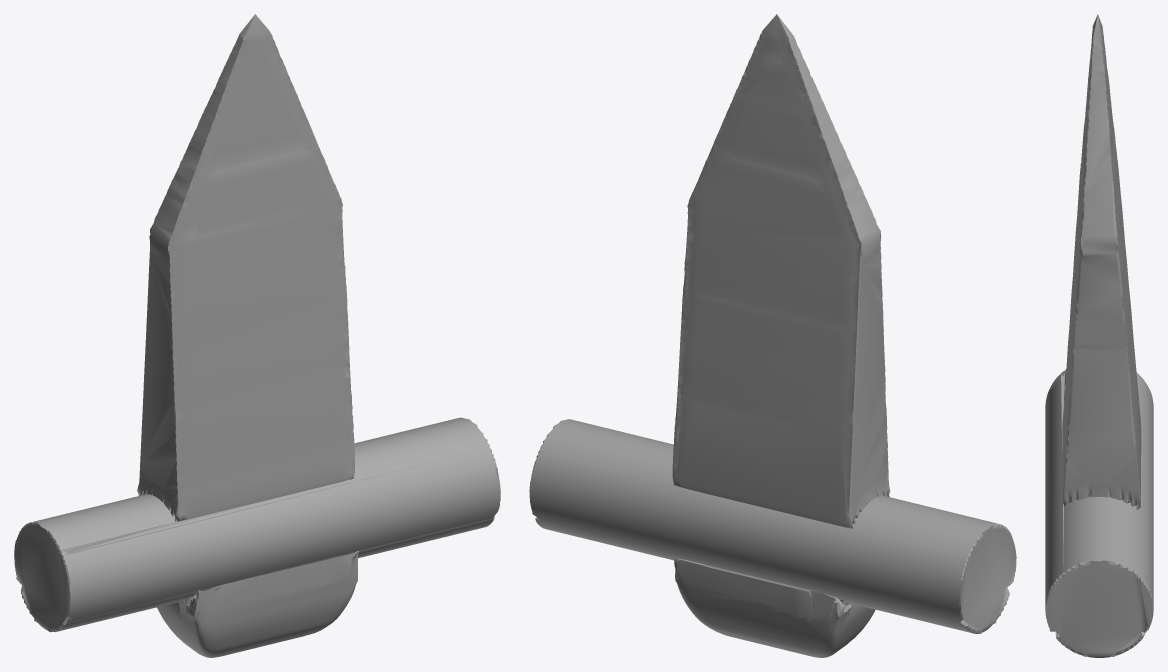
3 views of the same model, side by side, from view 1: azimuth 30°, elevation 25°; view 2: azimuth 150°, elevation 25°; view 3: azimuth 270°, elevation 25° (orthographic). The views are drawn at different scales.
Visible parts, largest first — view 1: MeshDrawObject; view 2: MeshDrawObject; view 3: MeshDrawObject.
Part boxes in pixels (x1,y1,x2,y2): MeshDrawObject: [14, 14, 500, 657]; MeshDrawObject: [529, 14, 1016, 657]; MeshDrawObject: [1045, 14, 1153, 657].
Bounding box in the file's own units: 129 × 180 × 29.26.
Materials: 1 (1 with a texture image).
